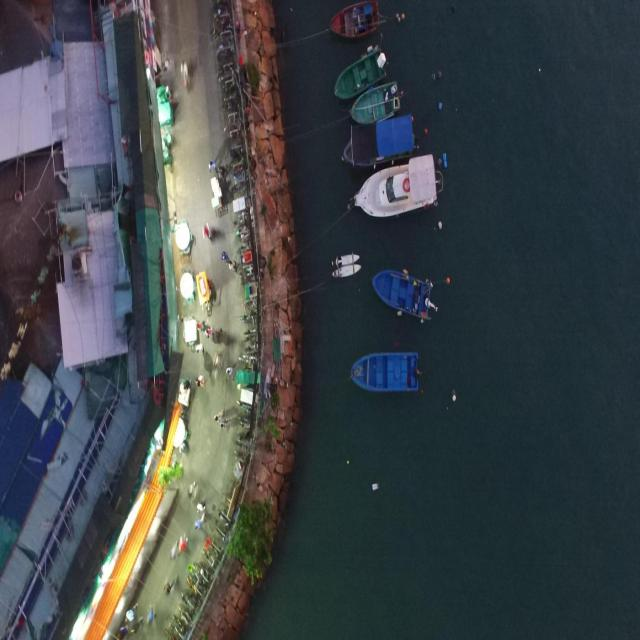tree: (225, 494, 275, 585)
